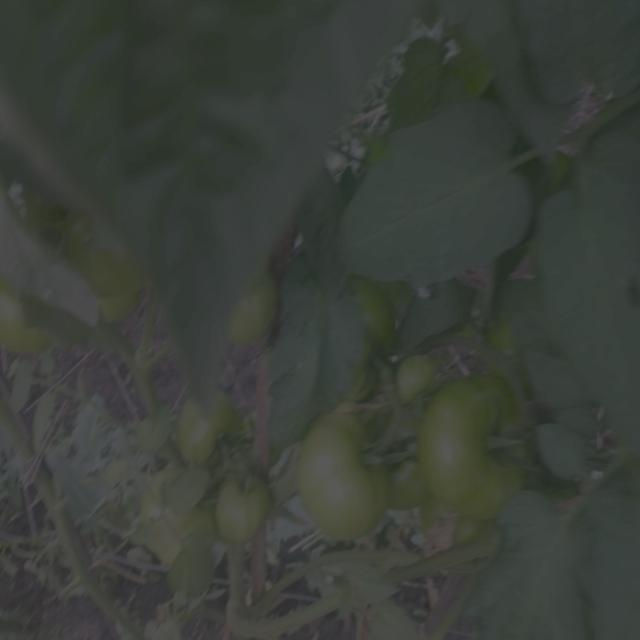tomato: (416, 365, 538, 524), (301, 400, 397, 547), (163, 393, 265, 465), (211, 464, 278, 544), (1, 276, 52, 364), (86, 244, 148, 314), (359, 273, 407, 357), (146, 492, 209, 544), (233, 268, 275, 338), (399, 354, 436, 415)
